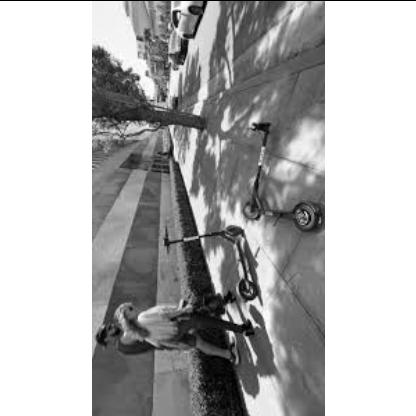bike: (243, 122, 323, 232), (163, 225, 264, 307)
